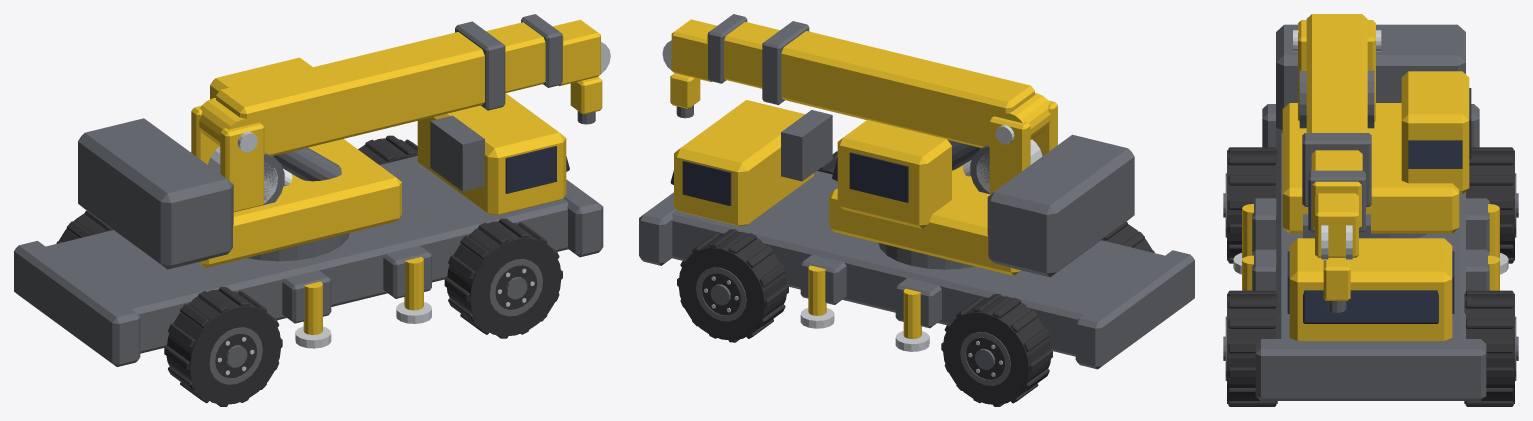
Rendered from model_mobile_crane.glb.
3 renders of one model, left to right at view 1: azimuth 30°, elevation 25°; view 2: azimuth 150°, elevation 25°; view 3: azimuth 270°, elevation 25°, orthographic. The views are drawn at different scales.
Visible parts, largest first — view 1: chassis, boom, wheel_fr, wheel_rr, wheel_fl, wheel_rl; view 2: chassis, boom, wheel_rl, wheel_fl, wheel_rr; view 3: chassis, boom, wheel_fl, wheel_fr, wheel_rr, wheel_rl.
Boxes of the visible parts, box(x1,y1,x2,y2) form: chassis: box(14, 57, 603, 366); boom: box(199, 14, 610, 185); wheel_fr: box(444, 218, 562, 338); wheel_rr: box(164, 287, 282, 406); wheel_fl: box(358, 135, 417, 164); wheel_rl: box(56, 210, 112, 243); chassis: box(639, 100, 1194, 369); boom: box(662, 14, 1050, 176); wheel_rl: box(941, 294, 1052, 406); wheel_fl: box(677, 229, 788, 342); wheel_rr: box(1101, 221, 1154, 252); chassis: box(1233, 20, 1508, 400); boom: box(1302, 14, 1371, 312); wheel_fl: box(1464, 290, 1518, 406); wheel_fr: box(1223, 290, 1277, 406); wheel_rr: box(1223, 147, 1277, 263); wheel_rl: box(1466, 147, 1518, 263).
Size of the model in its own units: 0.935 by 0.4446 by 0.435.
